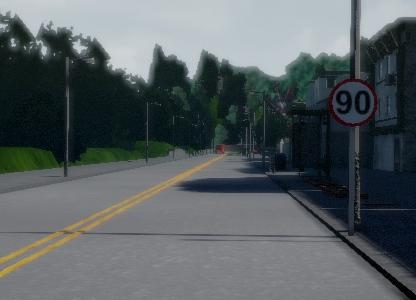Speed_90: (326, 74, 379, 131)
